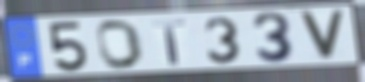3: (251, 10, 298, 65), (203, 15, 242, 65)
5: (47, 20, 90, 73)
O: (94, 18, 146, 71)
T: (151, 18, 189, 66)
V: (296, 9, 347, 62)
